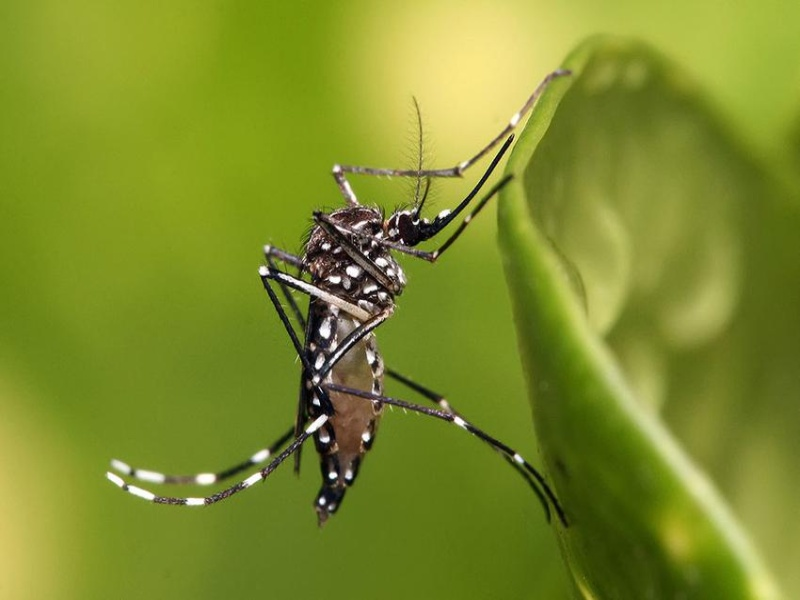dengue_mosquito: (239, 92, 465, 514)
